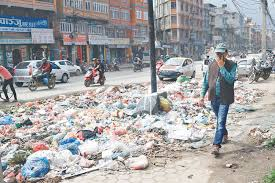garbage: (1, 104, 162, 167), (57, 94, 151, 173), (98, 87, 149, 168), (164, 81, 199, 149), (235, 83, 257, 106)
